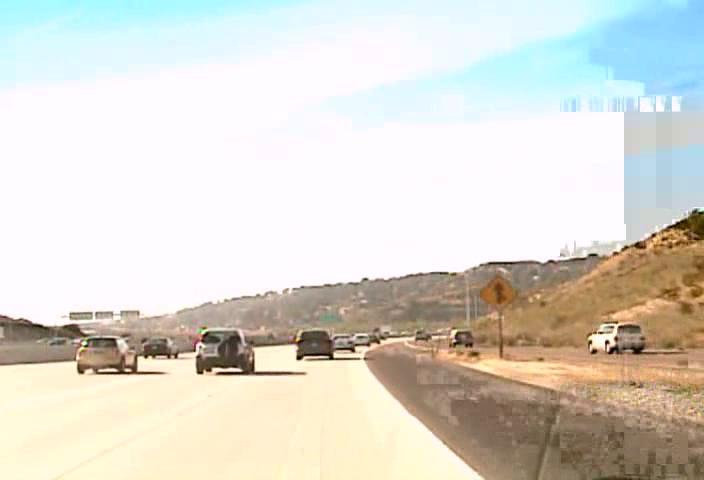merge: (478, 273, 518, 311)
